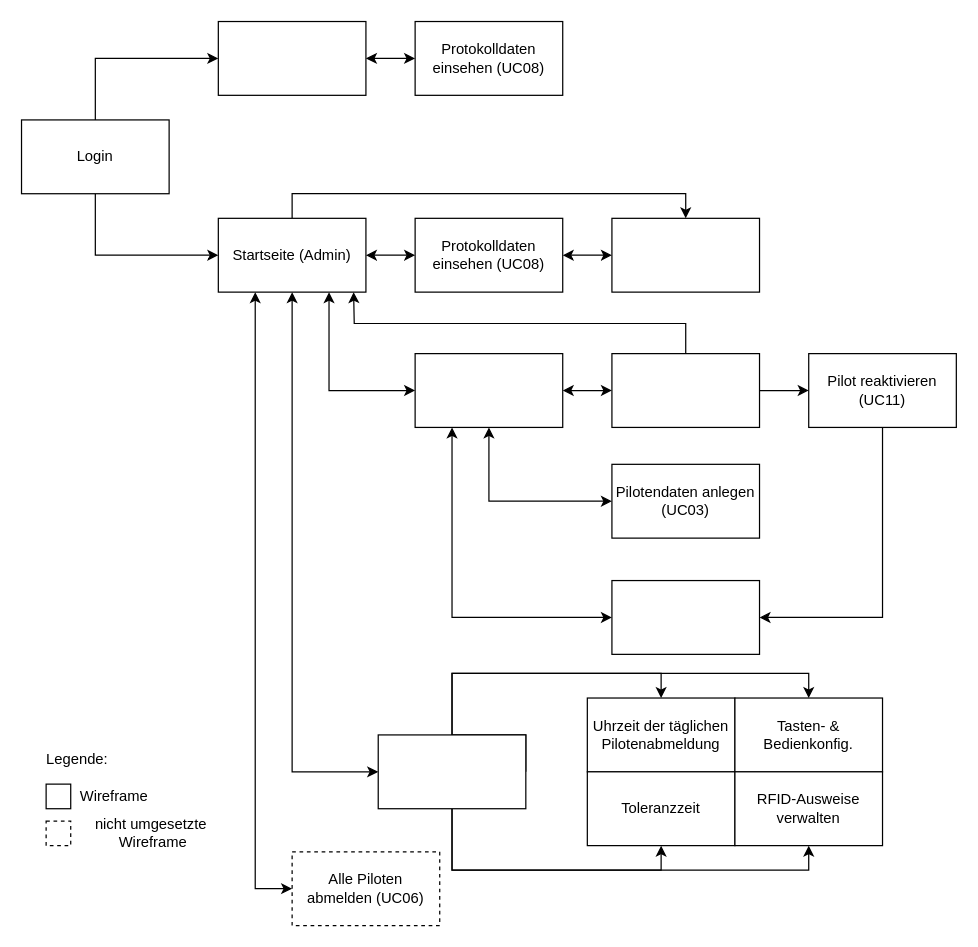
The diagram is 978 pixels wide and 947 high, and some of its shapes have lost their labels. Here are the shapes that lost their labels. From the top down, the centre of each, then its label:
the point at 291,57: Startseite (Pilot)
the point at 685,254: Flugzeiten nachtragen (UC09)
the point at 488,389: Pilotenübersicht (aktive)
the point at 685,389: Pilotenübersicht (deaktive) (UC11)
the point at 685,616: Pilotendaten modifizieren (UC05)
the point at 451,771: Einstellungen
